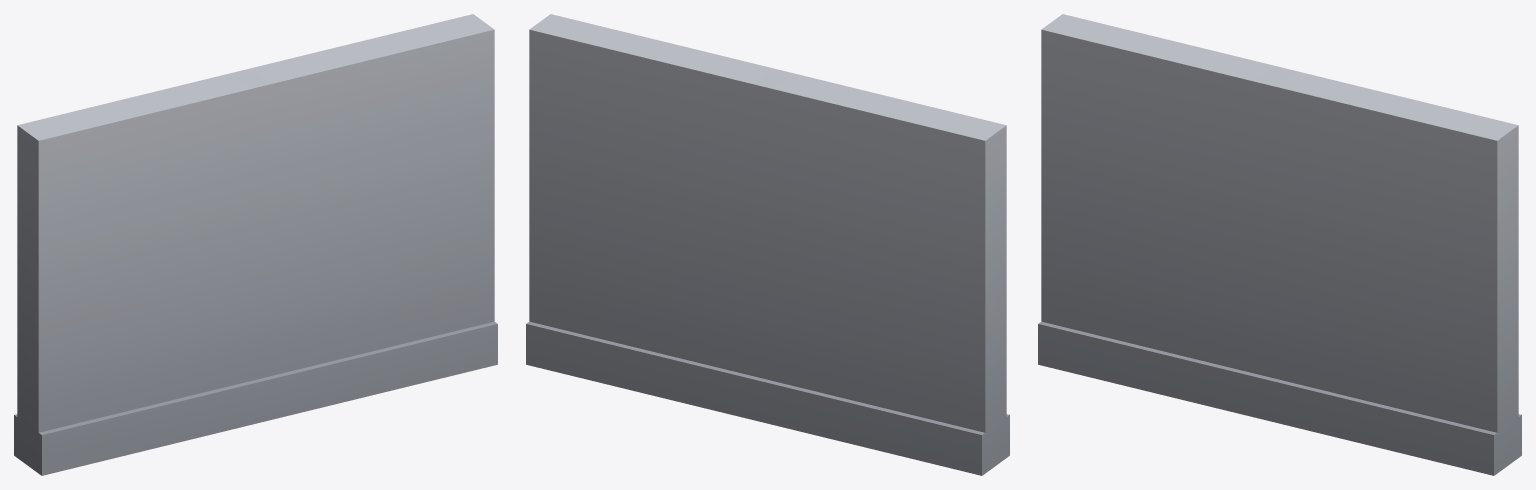
Rendered from parkingWall.fbx.
The picture shows the model from 3 angles, left to right: view 1: azimuth 30°, elevation 25°; view 2: azimuth 150°, elevation 25°; view 3: azimuth 330°, elevation 25°; orthographic projection.
Parts seen in each view (by area): view 1: Cube.056; view 2: Cube.056; view 3: Cube.056.
Part boxes in pixels (x1,y1,x2,y2): Cube.056: [14, 14, 497, 475]; Cube.056: [526, 14, 1009, 475]; Cube.056: [1038, 14, 1521, 475].
Size of the model in its own units: 7.6 by 5.3 by 0.8.
Materials: 1 (1 with a texture image).
